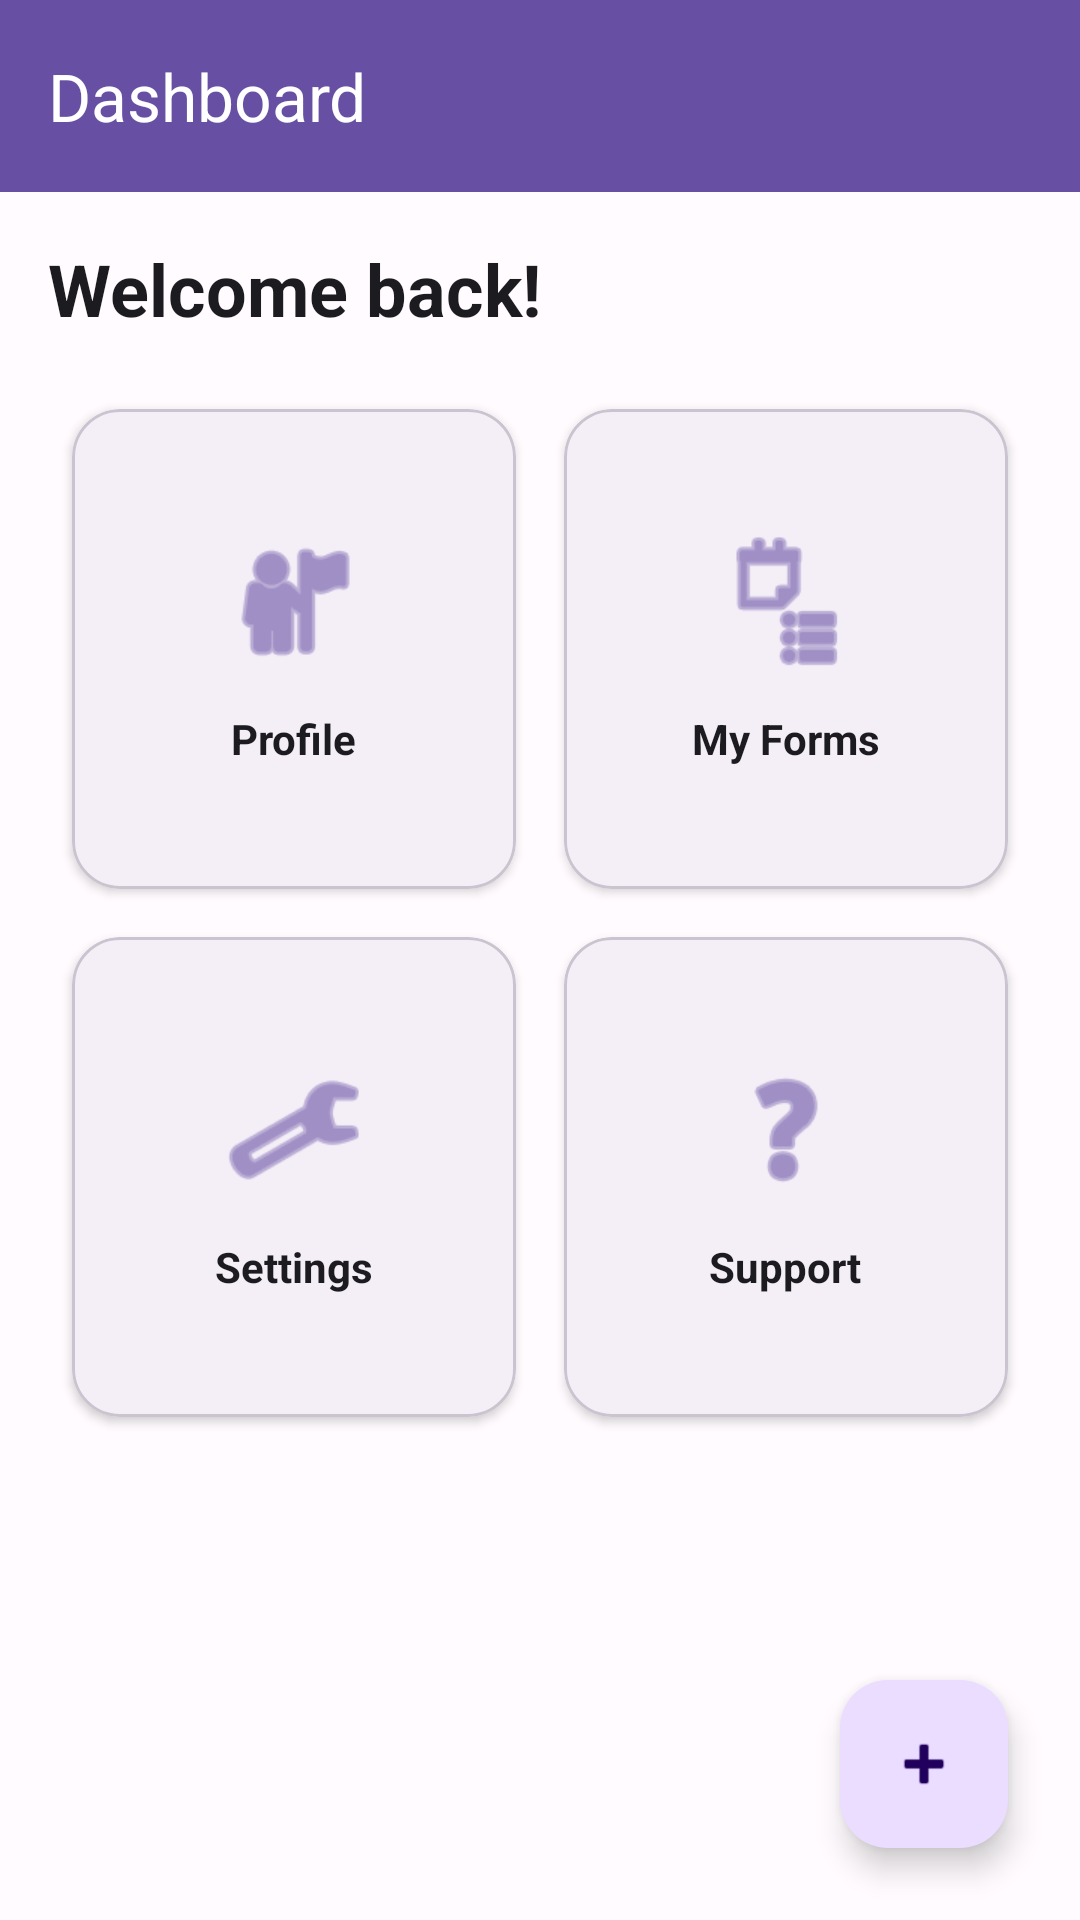

Icons on this 1080x1920 Android screen, each with its box as (x1, y1, x2, y2):
add: (840, 1680, 1008, 1848)
agenda: (736, 537, 837, 665)
help: (755, 1079, 818, 1181)
manage: (229, 1081, 359, 1179)
myplaces: (242, 549, 349, 655)
